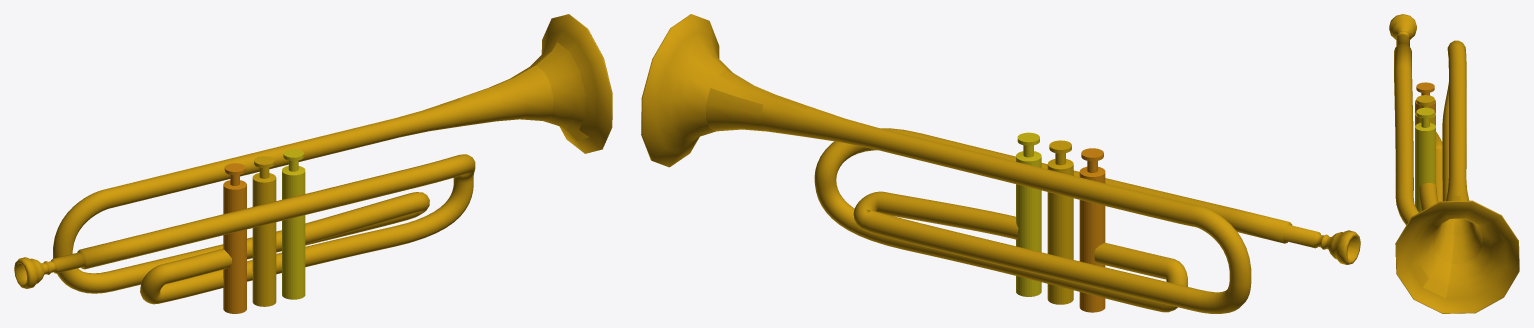
Rendered from trumpet.obj.
3 views of the same model, side by side, from view 1: azimuth 30°, elevation 25°; view 2: azimuth 150°, elevation 25°; view 3: azimuth 270°, elevation 25° (orthographic). The views are drawn at different scales.
Visible parts, largest first — view 1: ベジエカーブ.001, 円柱.001_円柱.003, 円柱.003_円柱.004, 円柱.002; view 2: ベジエカーブ.001, 円柱.001_円柱.003, 円柱.003_円柱.004, 円柱.002; view 3: ベジエカーブ.001, 円柱.003_円柱.004, 円柱.001_円柱.003, 円柱.002.
Boxes of the visible parts, box(x1,y1,x2,y2) form: ベジエカーブ.001: box(14, 14, 612, 304); 円柱.001_円柱.003: box(252, 156, 276, 306); 円柱.003_円柱.004: box(282, 149, 305, 299); 円柱.002: box(223, 163, 246, 313); ベジエカーブ.001: box(641, 14, 1360, 313); 円柱.001_円柱.003: box(1047, 140, 1073, 304); 円柱.003_円柱.004: box(1016, 132, 1041, 296); 円柱.002: box(1079, 148, 1105, 312); ベジエカーブ.001: box(1389, 14, 1519, 313); 円柱.003_円柱.004: box(1415, 107, 1435, 212); 円柱.001_円柱.003: box(1415, 95, 1435, 125); 円柱.002: box(1415, 82, 1435, 113).
Bounding box in the file's own units: 4.65 × 1.42 × 1.01.
